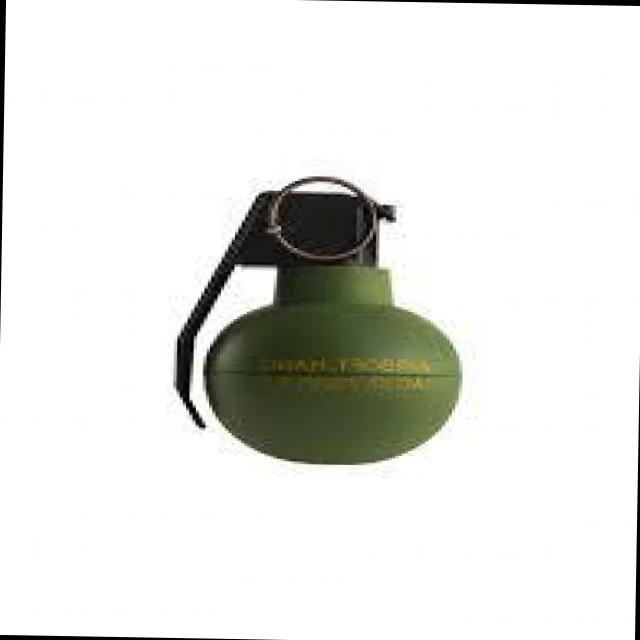grenade: (168, 184, 462, 484)
